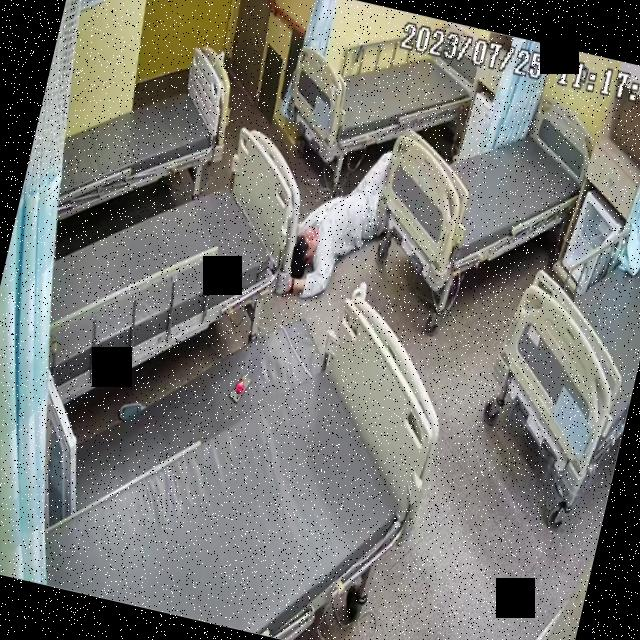bed: (32, 249, 454, 640), (21, 96, 314, 435), (473, 187, 640, 503), (365, 74, 597, 296), (46, 19, 244, 248), (282, 8, 482, 188)
fall: (280, 138, 402, 314)
patient: (280, 136, 404, 311)
